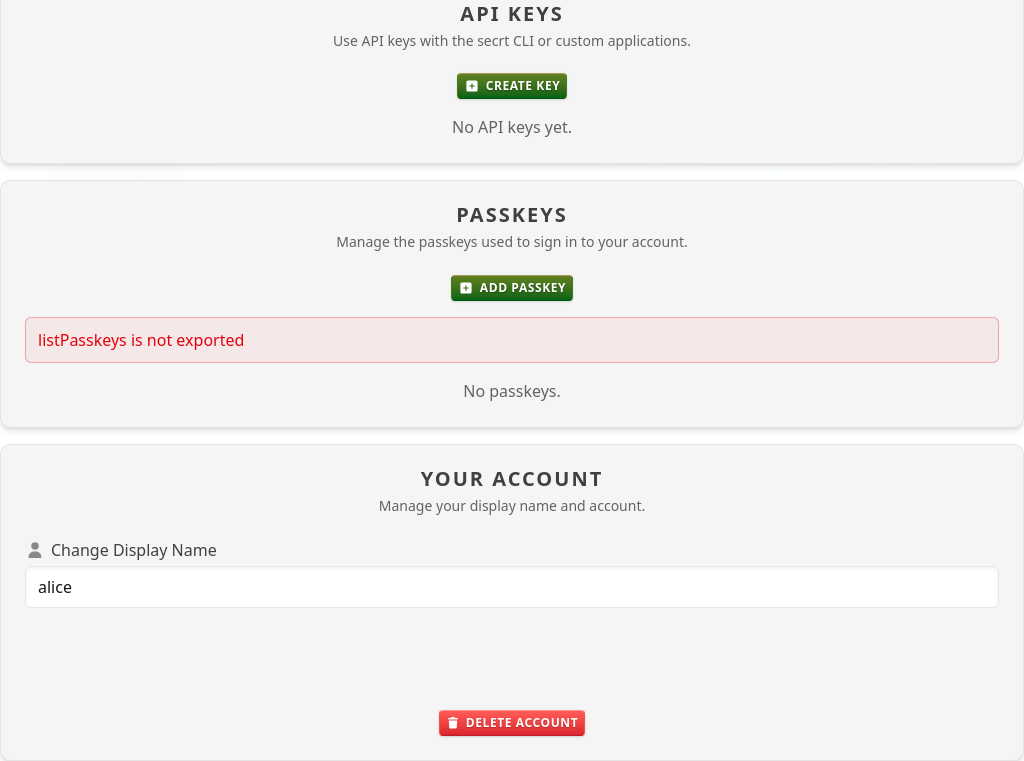
Test: SettingsPage › delete account confirm button is disabled until DELETE is typed
(page scrolled)
// Click "Delete Account" to reveal confirmation UI
Click the button "Delete Account".
click(512, 723)  # box [439, 710, 585, 736]
(page scrolled)
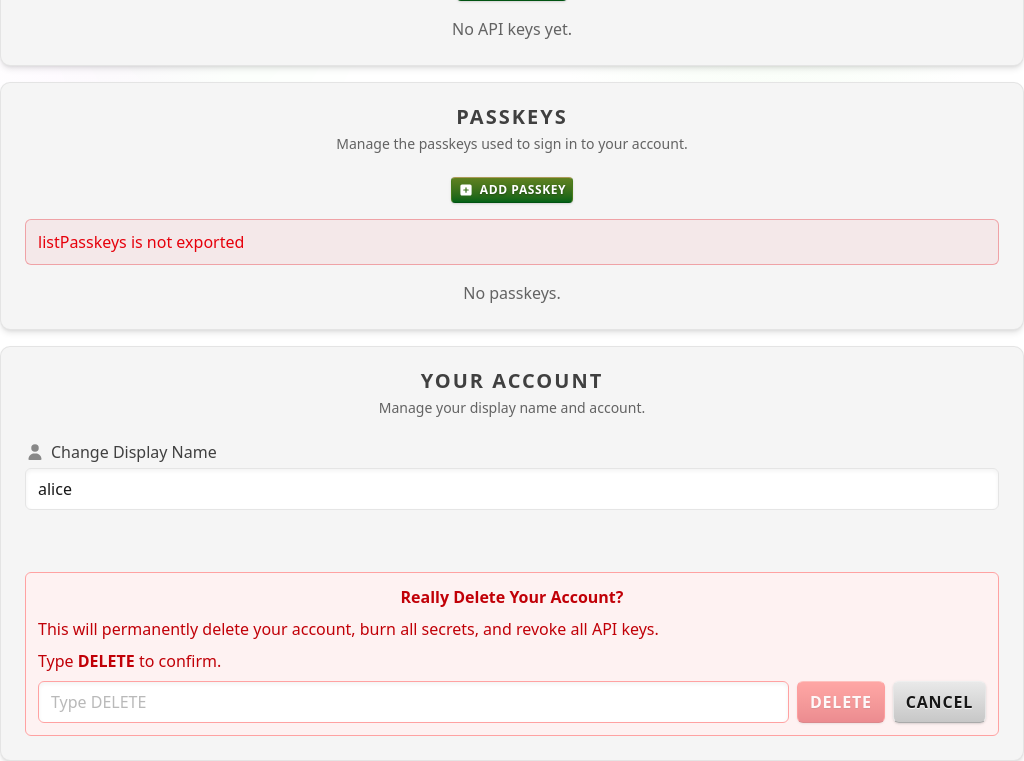
Check: the button "Delete" is disabled, box [797, 681, 885, 723]
// Type something other than DELETE
Type "DELE" into the field with placeholder "Type DELETE".
click(413, 702); type("DELE")  # box [38, 681, 789, 723]
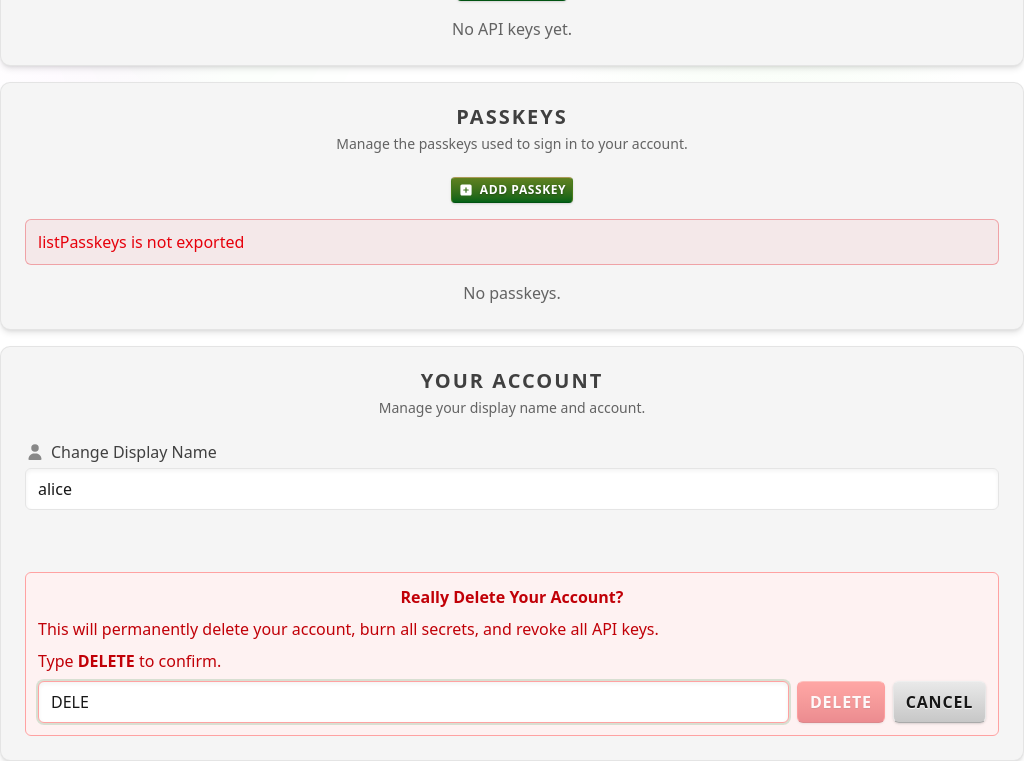
Check: the button "Delete" is disabled, box [797, 681, 885, 723]
// Type the final characters to spell DELETE
Type "TE" into the field with placeholder "Type DELETE".
click(413, 702); type("TE")  # box [38, 681, 789, 723]
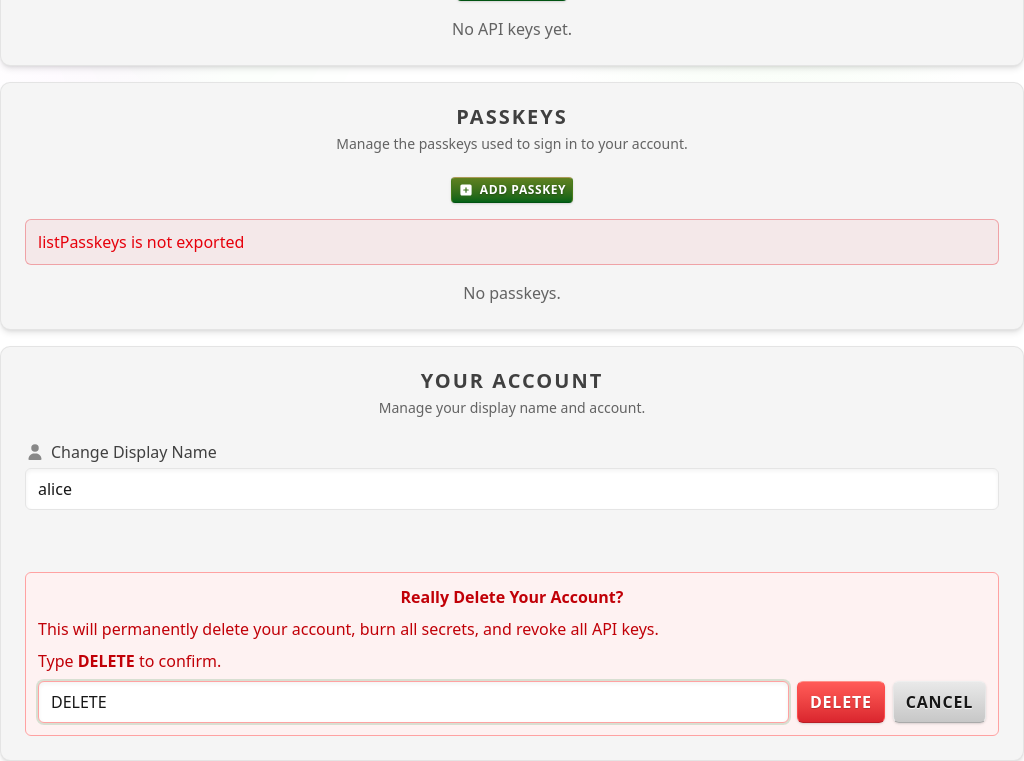
Check: the button "Delete" is enabled, box [797, 681, 885, 723]
